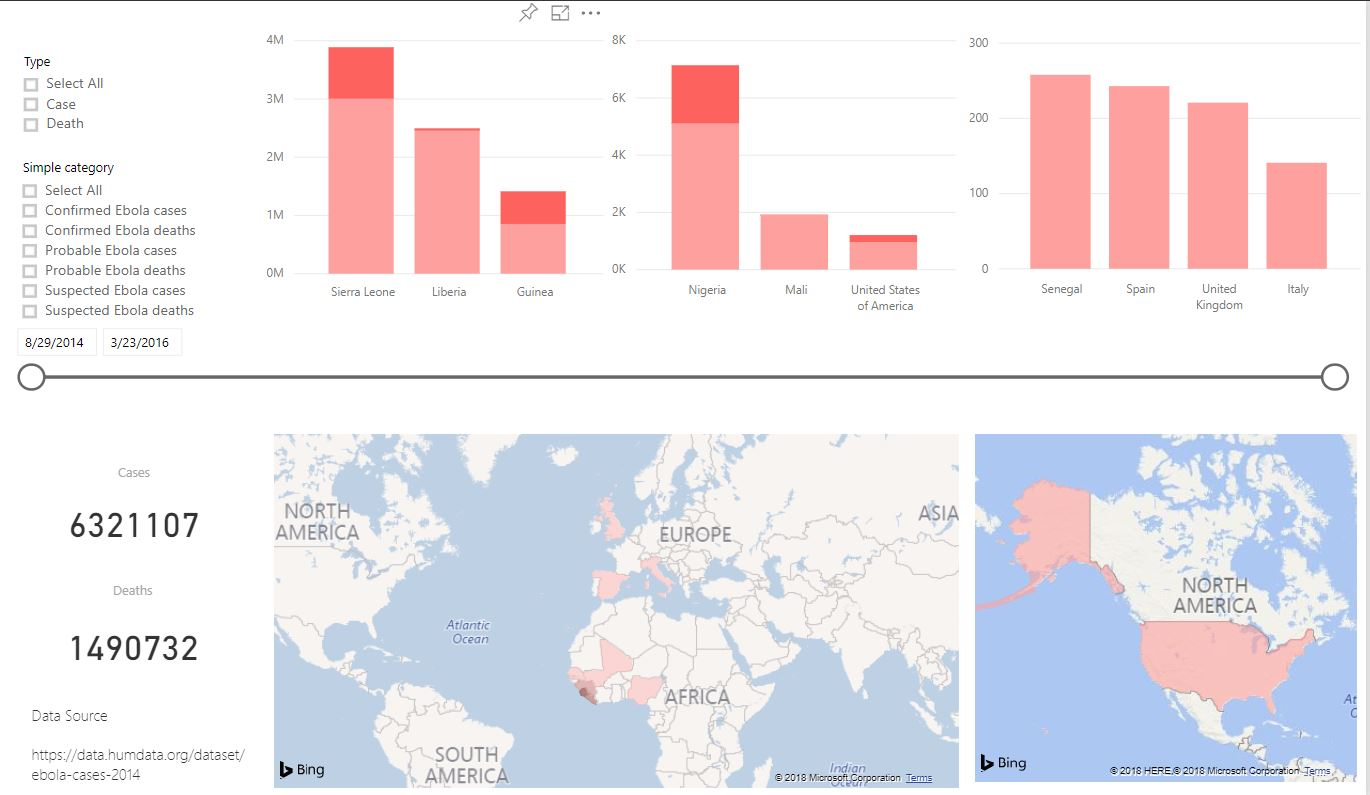

The page's visual inventory and layout, read from the dashboard file:
{"tool":"powerbi","page":{"name":"Overview","canvas":[1280,720],"ordinal":0},"visuals":[{"type":"slicer","fields":{"Values":["Category.Type Hierarchy.Type"]},"box":[9.4,20,198.4,90],"z":1},{"type":"slicer","fields":{"Values":["Category.Type Hierarchy.Simple category"]},"box":[8.2,119,201.5,161.4],"z":2},{"type":"columnChart","fields":{"Y":["Sum(ebola_data_db_format.value)"],"Category":["ebola_data_db_format.Country"],"Series":["Category.Type Hierarchy.Type"]},"box":[245.1,0,326.2,261.1],"z":3},{"type":"columnChart","fields":{"Y":["Sum(ebola_data_db_format.value)"],"Category":["ebola_data_db_format.Country"],"Series":["Category.Type Hierarchy.Type"]},"box":[568,0,332.8,276.5],"z":3},{"type":"columnChart","fields":{"Y":["Sum(ebola_data_db_format.value)"],"Category":["ebola_data_db_format.Country"],"Series":["Category.Type Hierarchy.Type"]},"box":[902.7,2.4,377.1,273.4],"z":3},{"type":"slicer","fields":{"Values":["ebola_data_db_format.Date"]},"box":[3.5,273.2,1270.3,100.2],"z":6},{"type":"filledMap","fields":{"Category":["ebola_data_db_format.Country"],"Size":["Sum(ebola_data_db_format.value)"]},"box":[908.5,377.1,367.7,335.8],"z":7},{"type":"filledMap","fields":{"Category":["ebola_data_db_format.Country"],"Size":["Sum(ebola_data_db_format.value)"]},"box":[252.2,376.6,651.4,342.2],"z":8},{"type":"card","fields":{"Values":["Sum(ebola_data_db_format.value)"]},"box":[3.5,409.6,243.9,93.1],"z":9},{"type":"card","fields":{"Values":["Sum(ebola_data_db_format.value)"]},"box":[1.6,519.9,246.3,103.7],"z":10},{"type":"textbox","box":[24.7,630.4,215.6,88.4],"z":11}]}

Visuals, with their boxes on the page's 1280x720 design canvas (x1, y1, x2, y2). These are canvas units, not pixel positions in the 1370x795 screenshot, which may show the page scaled, cropped or inside an application window:
slicer - Category.Type Hierarchy.Type: {"left": 9, "top": 20, "right": 208, "bottom": 110}
slicer - Category.Type Hierarchy.Simple category: {"left": 8, "top": 119, "right": 210, "bottom": 280}
columnChart - Sum(ebola_data_db_format.value) x ebola_data_db_format.Country: {"left": 245, "top": 0, "right": 571, "bottom": 261}
columnChart - Sum(ebola_data_db_format.value) x ebola_data_db_format.Country: {"left": 568, "top": 0, "right": 901, "bottom": 276}
columnChart - Sum(ebola_data_db_format.value) x ebola_data_db_format.Country: {"left": 903, "top": 2, "right": 1280, "bottom": 276}
slicer - ebola_data_db_format.Date: {"left": 4, "top": 273, "right": 1274, "bottom": 373}
filledMap - ebola_data_db_format.Country x Sum(ebola_data_db_format.value): {"left": 908, "top": 377, "right": 1276, "bottom": 713}
filledMap - ebola_data_db_format.Country x Sum(ebola_data_db_format.value): {"left": 252, "top": 377, "right": 904, "bottom": 719}
card - Sum(ebola_data_db_format.value): {"left": 4, "top": 410, "right": 247, "bottom": 503}
card - Sum(ebola_data_db_format.value): {"left": 2, "top": 520, "right": 248, "bottom": 624}
textbox: {"left": 25, "top": 630, "right": 240, "bottom": 719}
